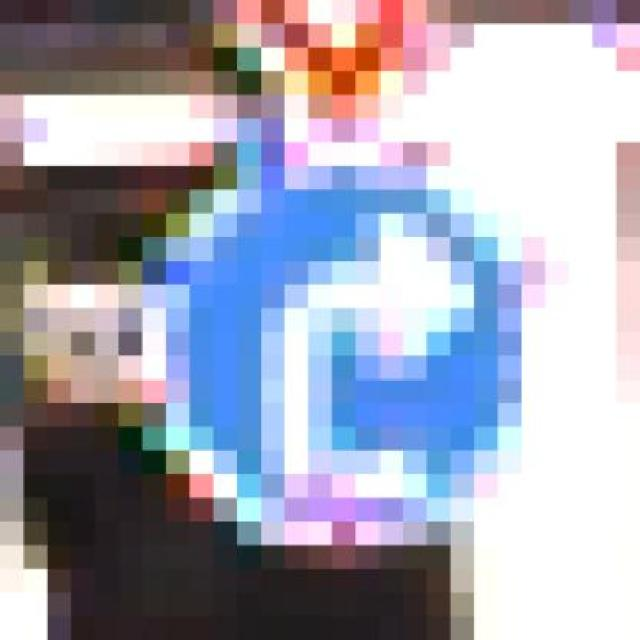Turn right ahead: (118, 142, 545, 569)
